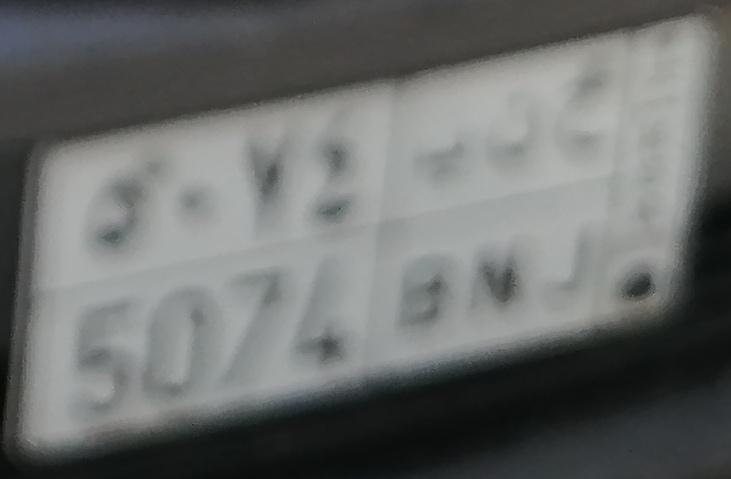0: (145, 181, 218, 398)
4: (285, 111, 369, 373)
5: (71, 176, 143, 426)
7: (220, 128, 304, 388)
B: (389, 130, 475, 347)
J: (543, 60, 625, 313)
